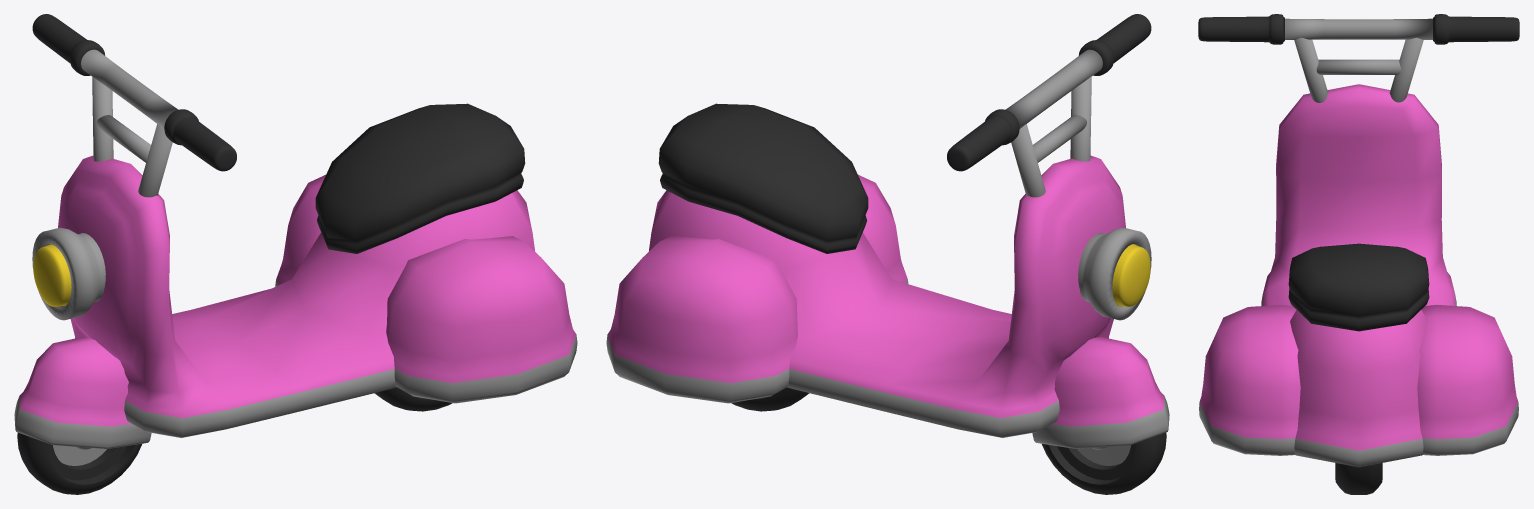
The model's file is Scooter.fbx.
3 renders of one model, left to right at view 1: azimuth 30°, elevation 25°; view 2: azimuth 150°, elevation 25°; view 3: azimuth 270°, elevation 25°, orthographic. The views are drawn at different scales.
Visible parts, largest first — view 1: Scooter, FrontWheel, RearWheel; view 2: Scooter, FrontWheel, RearWheel; view 3: Scooter, RearWheel.
Part boxes in pixels (bbox=[...]): Scooter: bbox=[14, 14, 577, 448]; FrontWheel: bbox=[17, 432, 141, 494]; RearWheel: bbox=[374, 387, 452, 411]; Scooter: bbox=[606, 14, 1169, 448]; FrontWheel: bbox=[1042, 432, 1166, 494]; RearWheel: bbox=[731, 387, 809, 411]; Scooter: bbox=[1198, 14, 1519, 467]; RearWheel: bbox=[1335, 463, 1382, 494].
Bounding box in the file's own units: 611 × 443 × 370.
